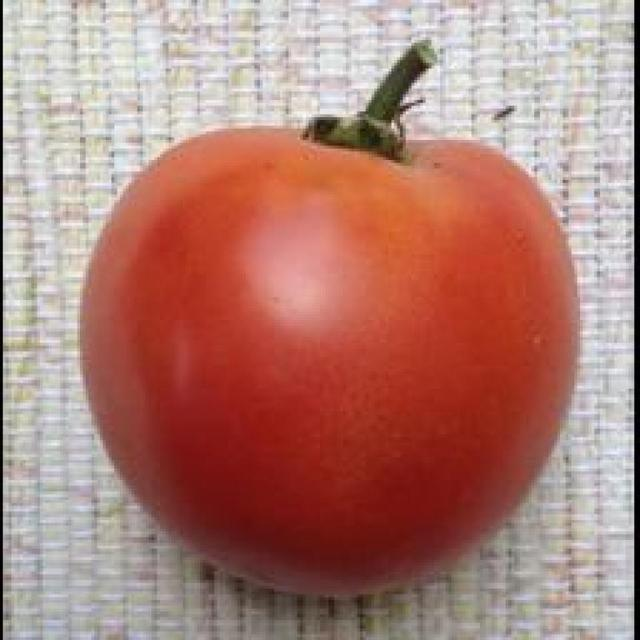Healthy Fruit: (50, 22, 394, 401)
